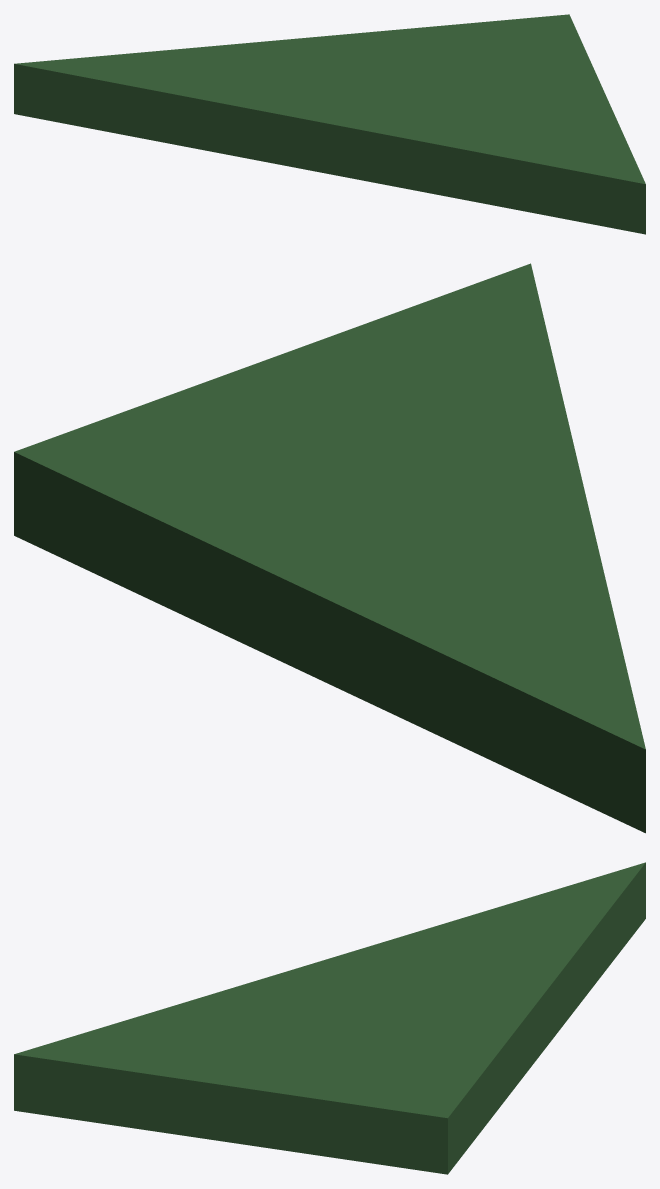
File: x_proval_00_63_1_rmstrd.fbx
The picture shows the model from 3 angles, top to bottom: view 1: azimuth 30°, elevation 25°; view 2: azimuth 150°, elevation 25°; view 3: azimuth 270°, elevation 25°; orthographic projection. The views are drawn at different scales.
Parts seen in each view (by area): view 1: x_proval_00_63_1_rmstrd1; view 2: x_proval_00_63_1_rmstrd1; view 3: x_proval_00_63_1_rmstrd1.
Part boxes in pixels (left/top/right/bottom): x_proval_00_63_1_rmstrd1: left=14, top=14, right=645, bottom=234; x_proval_00_63_1_rmstrd1: left=14, top=263, right=645, bottom=833; x_proval_00_63_1_rmstrd1: left=14, top=862, right=645, bottom=1174.
Size of the model in its own units: 1.95 by 0.2 by 2.03.
